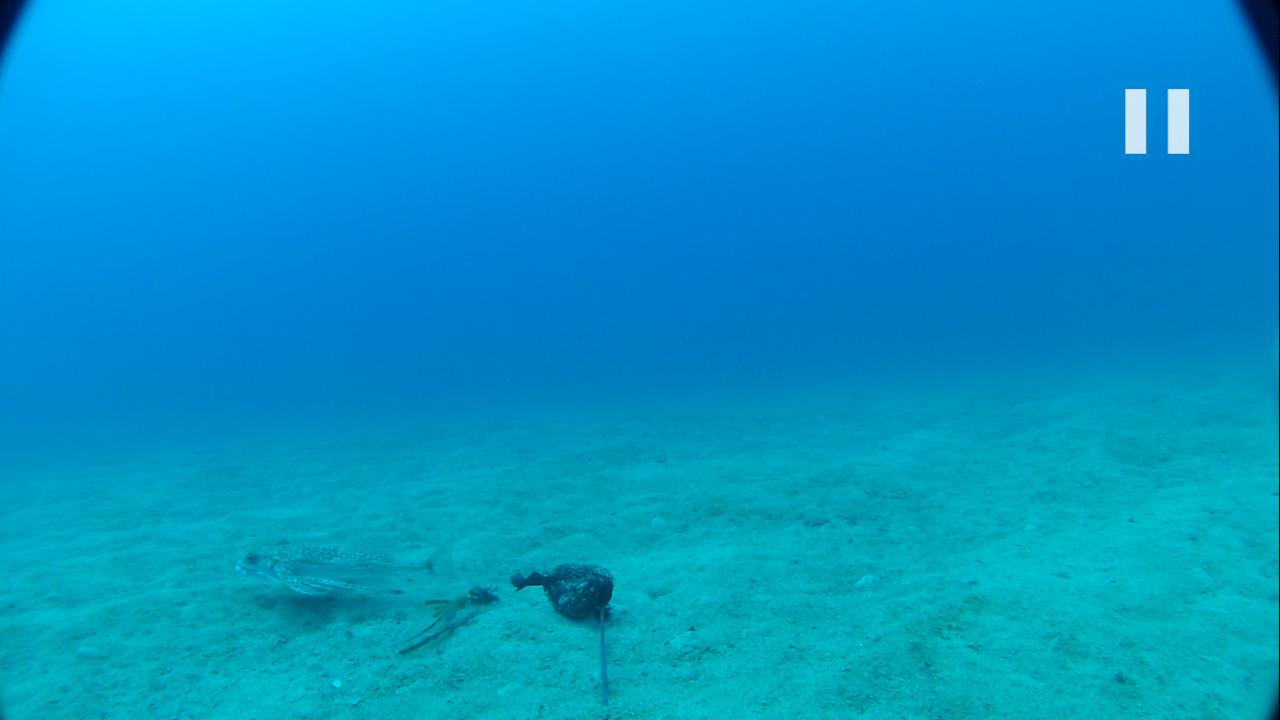dactylopterus: (226, 536, 465, 605)
